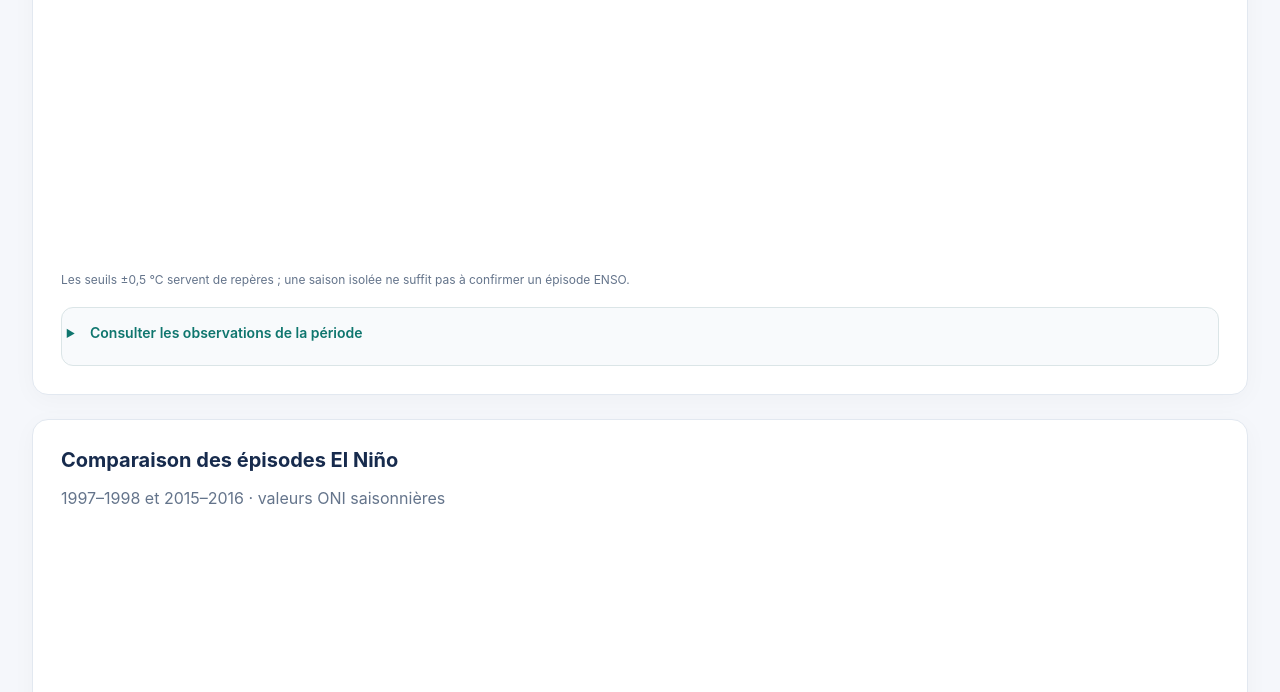
Test: ENSO Monitor dashboard › met à jour le tableau accessible lorsque le filtre de période change
The image size is (1280, 692).
(page scrolled)
Click the heading "Consulter les observations de la période" at [226, 332], box [90,324,363,341]
(page scrolled)
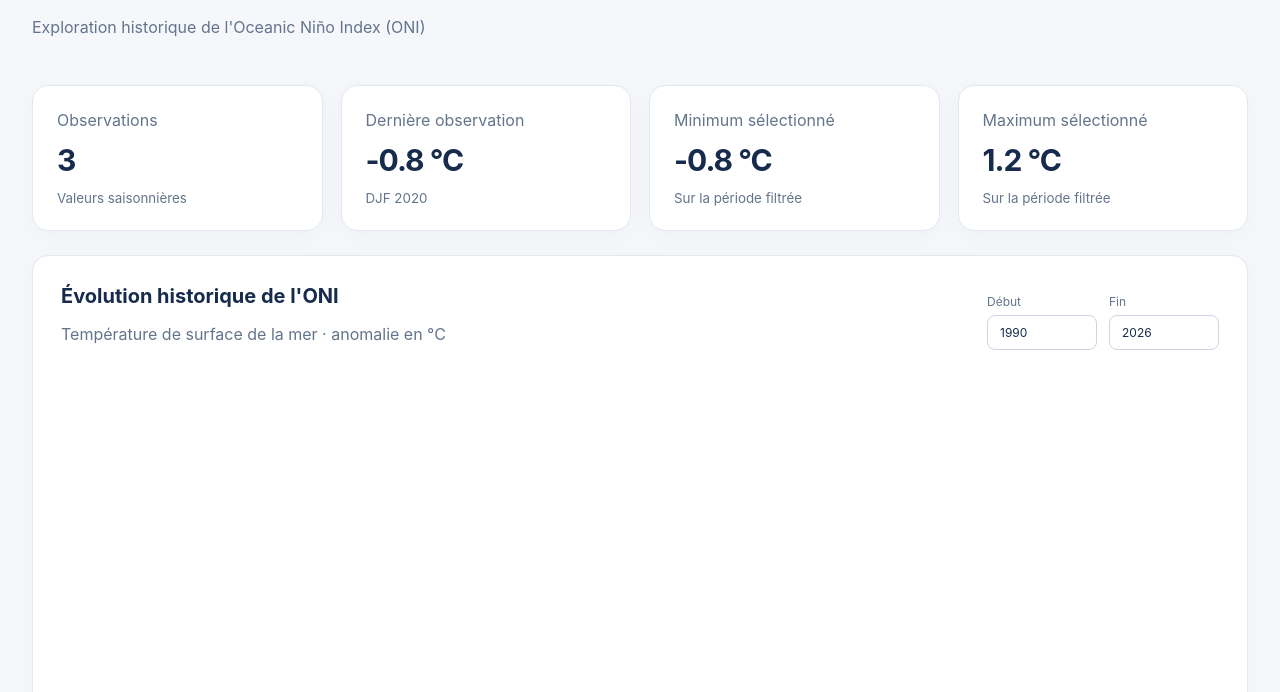
Replace the text in the number field labelled "Début" with "2010" at [1042, 332], box [987,315,1097,350]
(page scrolled)
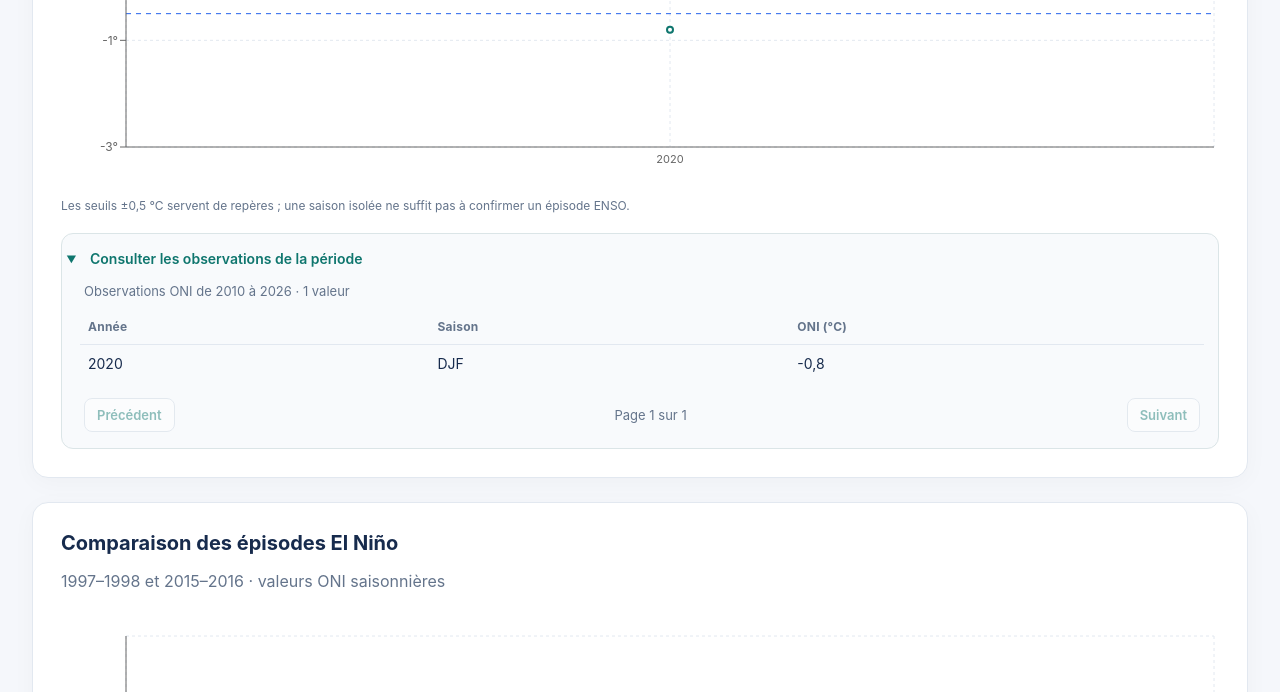
Now the table "Observations ONI de 2010 à 2026" shows "2020", box [88,355,123,372]
Now the table "Observations ONI de 2010 à 2026" shows "-0,8", box [797,355,825,372]
Now the table "Observations ONI de 2010 à 2026" no longer shows "1990", box [80,283,1204,382]
